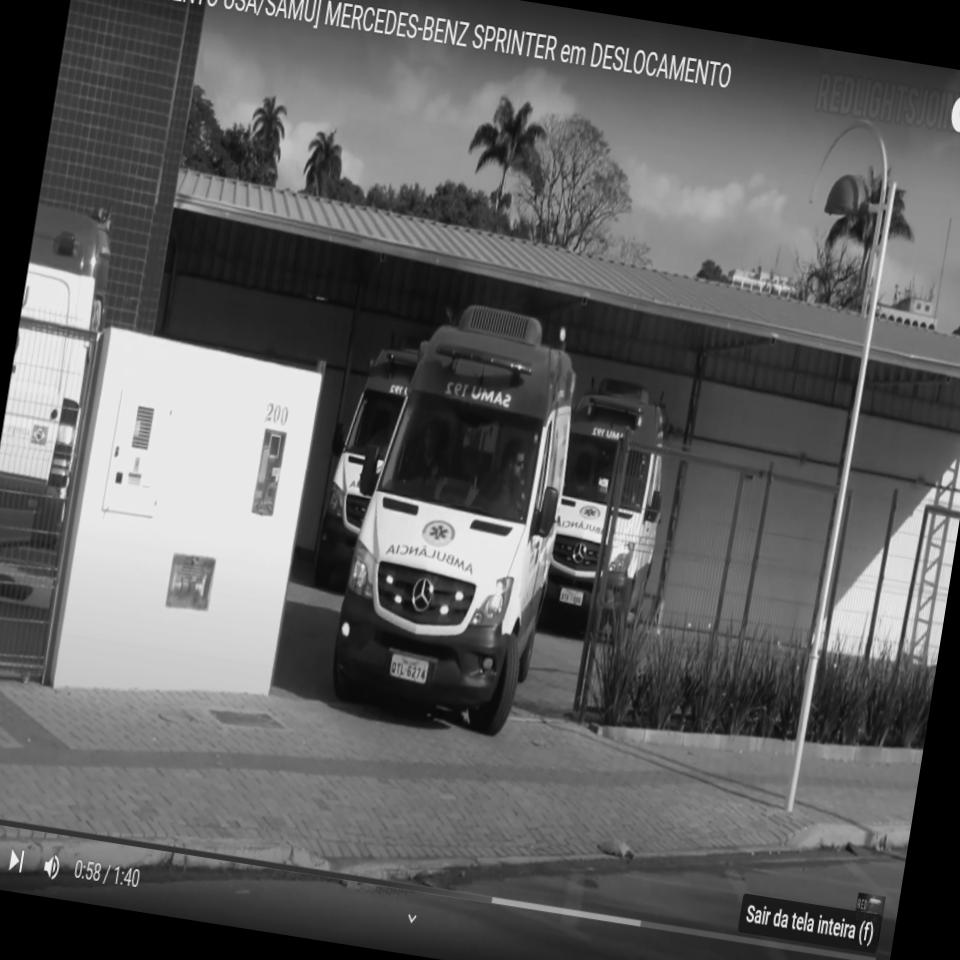bombeiro: (322, 284, 593, 744), (542, 371, 684, 638), (310, 324, 422, 594)
